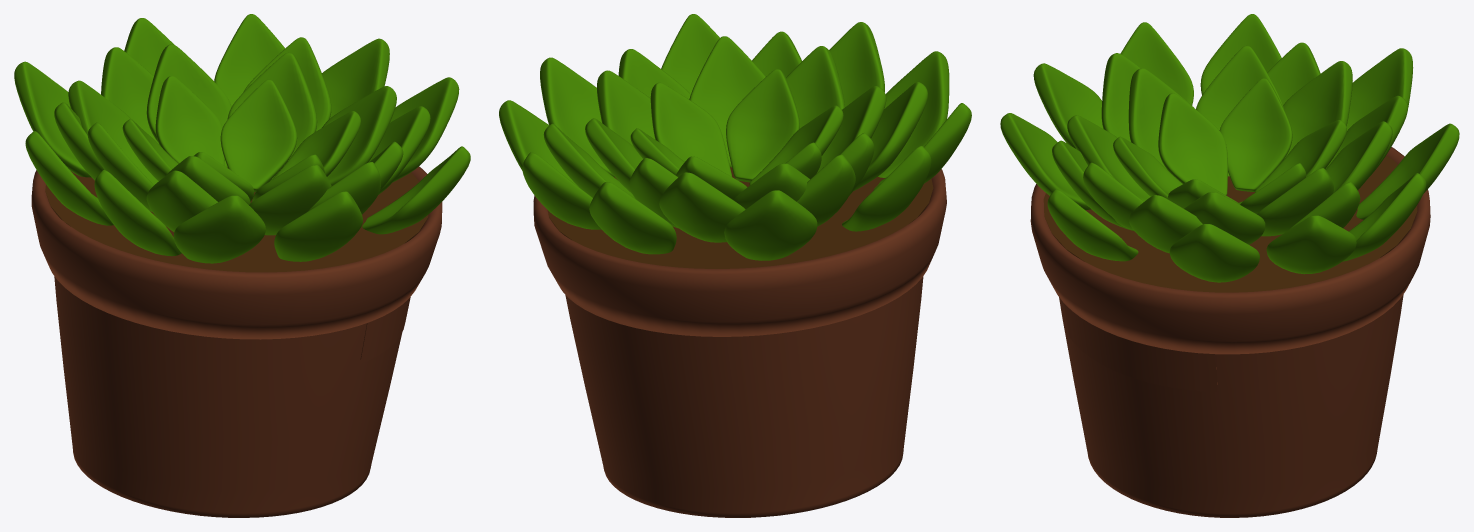
File: pianta.glb
3 views of the same model, side by side, from view 1: azimuth 30°, elevation 25°; view 2: azimuth 150°, elevation 25°; view 3: azimuth 270°, elevation 25° (orthographic). The views are drawn at different scales.
Parts seen in each view (by area): view 1: AloeVera, Pot, Pot.001, Dirt; view 2: AloeVera, Pot, Pot.001, Dirt; view 3: AloeVera, Pot, Pot.001, Dirt.
Part boxes in pixels (bbox=[...]): AloeVera: bbox=[14, 14, 470, 263]; Pot: bbox=[54, 276, 402, 517]; Pot.001: bbox=[31, 166, 442, 363]; Dirt: bbox=[45, 167, 428, 272]; AloeVera: bbox=[499, 14, 971, 260]; Pot: bbox=[565, 276, 923, 517]; Pot.001: bbox=[533, 169, 946, 336]; Dirt: bbox=[547, 167, 933, 268]; AloeVera: bbox=[1000, 14, 1459, 282]; Pot: bbox=[1059, 294, 1403, 517]; Pot.001: bbox=[1030, 147, 1430, 392]; Dirt: bbox=[1043, 155, 1417, 292].
Size of the model in its own units: 1.05 by 0.9151 by 1.06.
